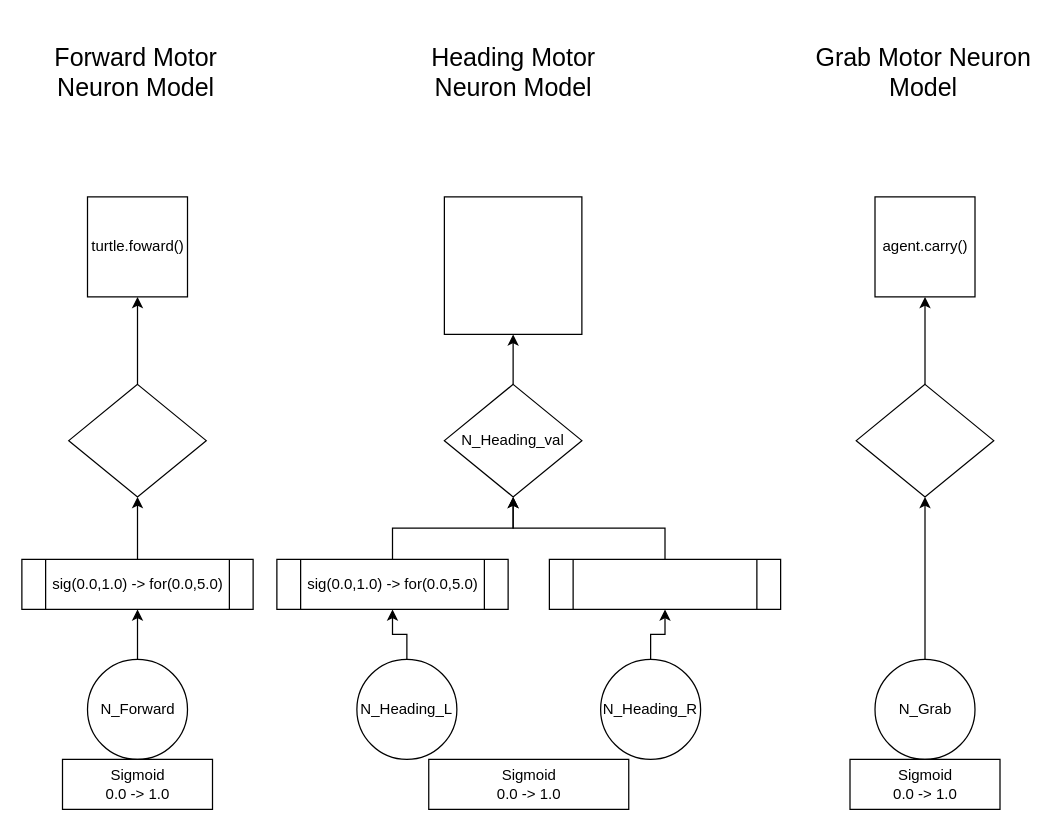
Some shapes in this 1059 by 831 pixel diagram are drawn without their labels. Here are the shapes that lost their labels. From the top down, the centre of each, then its label:
At [512,265]: "turtle.setheading()".
At [137,440]: "N_Forward_val".
At [924,440]: "N_Grab_val bool?".
At [664,583]: "sig(0.0,1.0) -> for(0.0,-5.0)".
